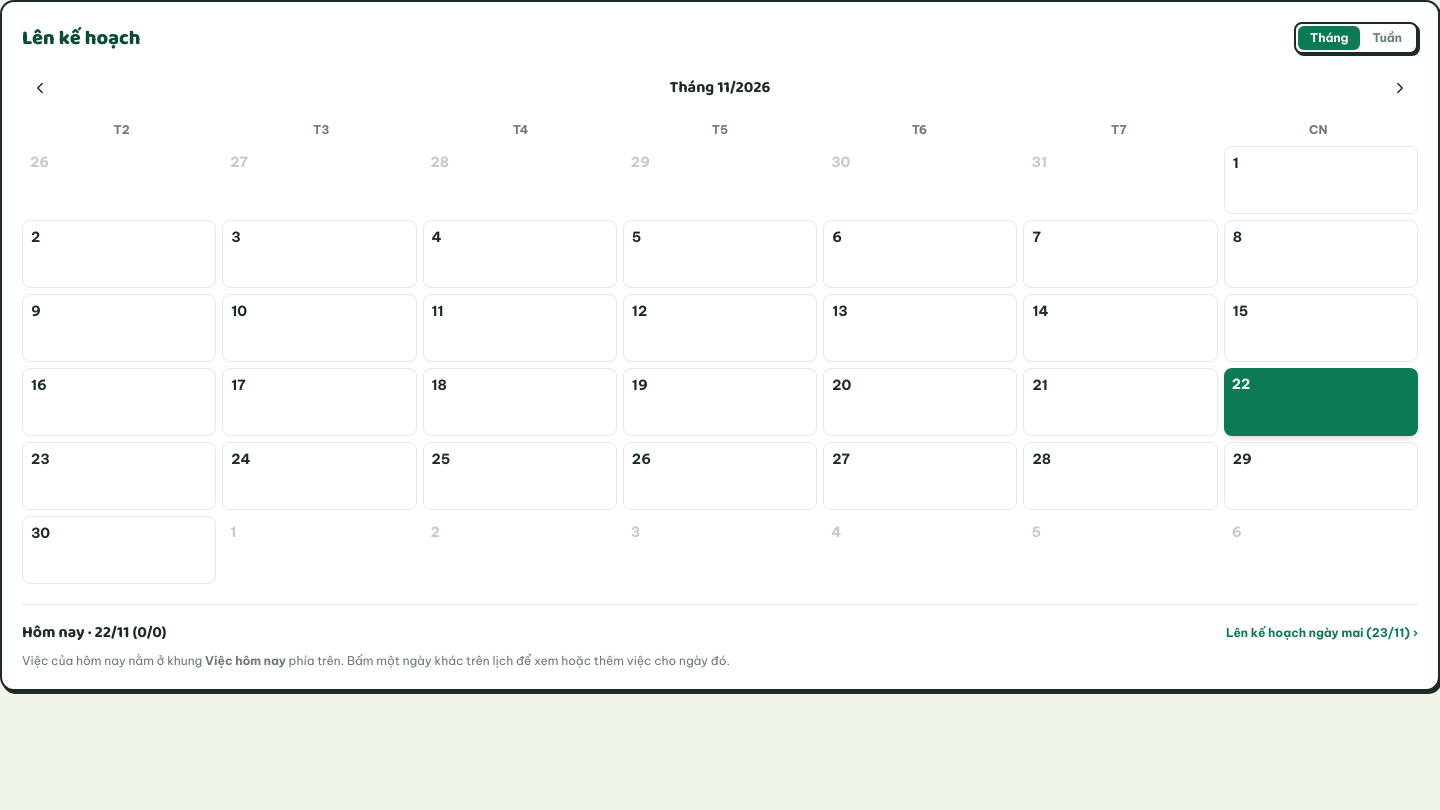
Scenario: PlanningCalendarBlock › changes selected date when clicking tomorrow link
The width and height of the screenshot is (1440, 810).
What coordinates should you click on to do the following:
click the button "Lên kế hoạch ngày mai (23/11) ›"
I would click on:
 (1322, 633)
Its box is [1226,625,1418,641].
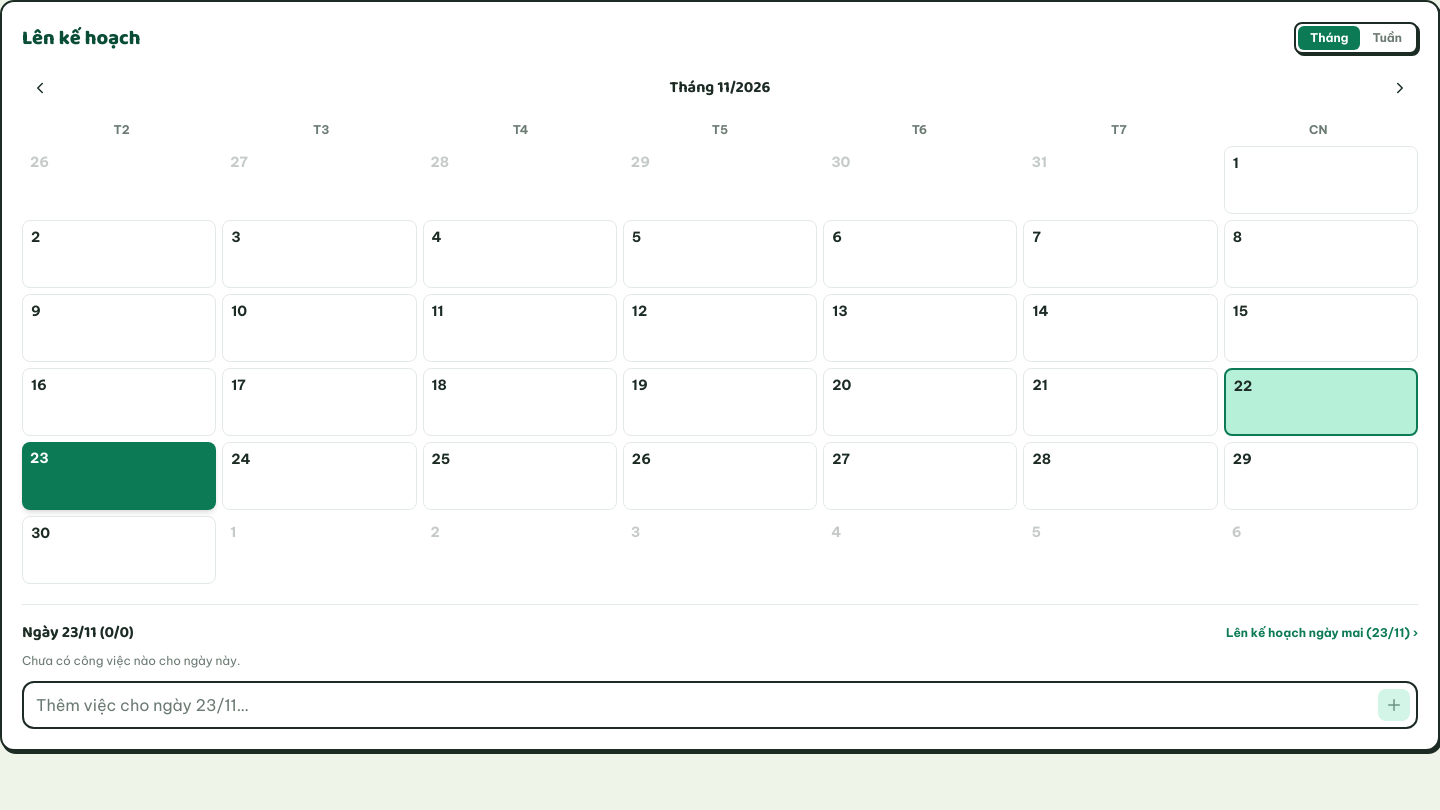
Check: the heading "Ngày 23/11 (0/0)" is shown, box [22,621,134,645]
Check: the field with placeholder "Thêm việc cho ngày 23/11…" is shown, box [24,693,1372,717]
